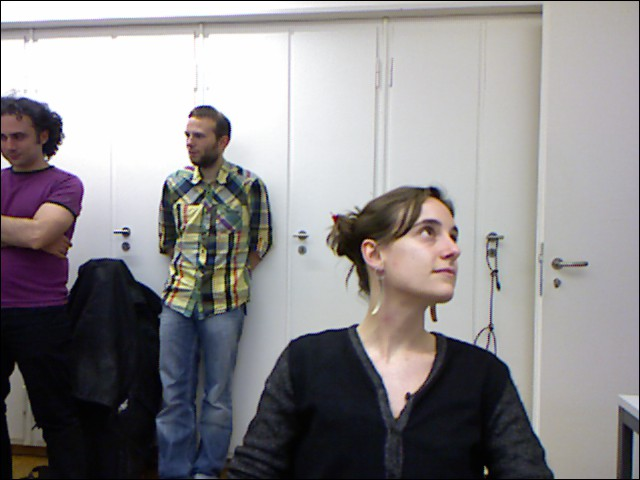deflection: (273, 193, 502, 433)
